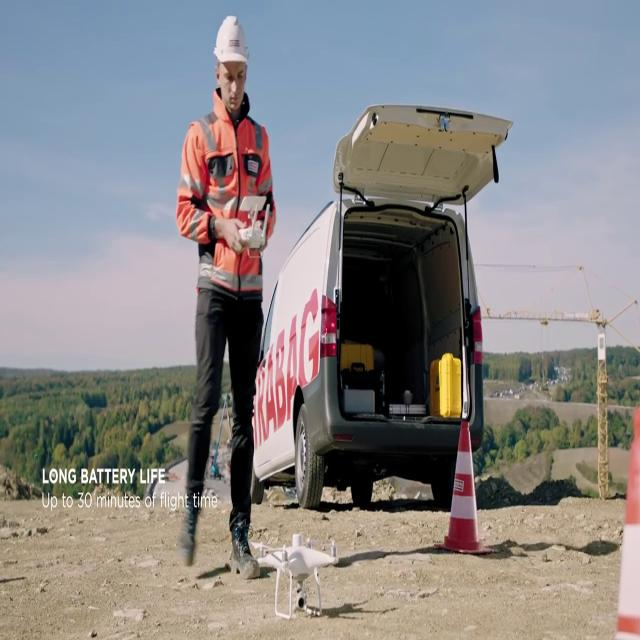drone: (251, 532, 345, 620)
